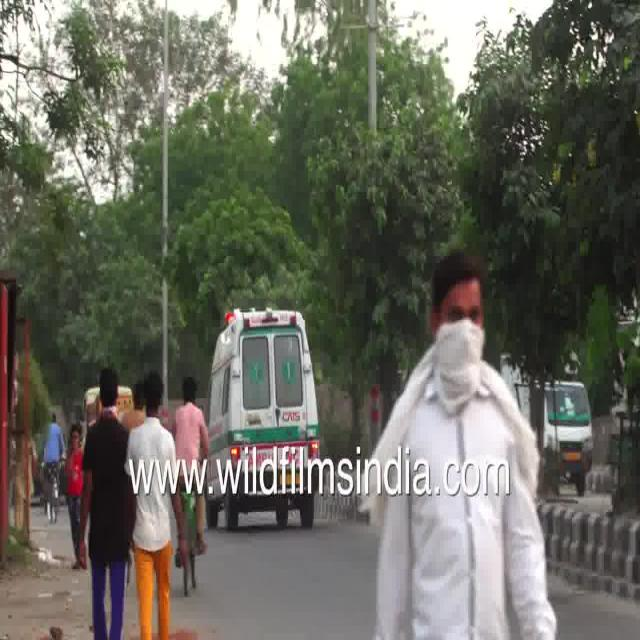ambulance: (202, 298, 341, 521)
